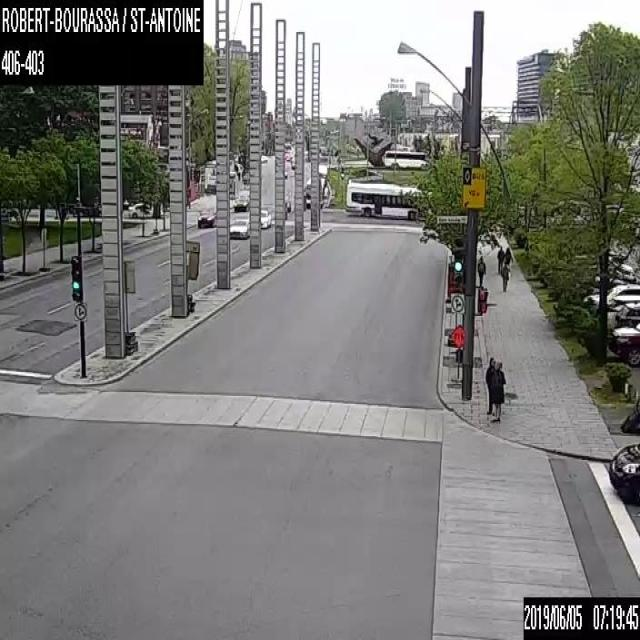bus: (344, 178, 431, 220), (381, 147, 426, 168), (304, 176, 326, 208), (317, 163, 327, 176)
construction: (121, 258, 138, 355), (184, 239, 200, 314), (449, 324, 462, 386)
pedestrian: (492, 361, 506, 421), (484, 355, 496, 413), (476, 252, 486, 283), (504, 244, 513, 274), (500, 262, 509, 292), (496, 244, 504, 273)
vehicle: (607, 440, 639, 503), (583, 283, 639, 308), (610, 321, 639, 365), (607, 294, 639, 323), (614, 302, 639, 328), (228, 216, 249, 240), (127, 199, 153, 217), (197, 208, 214, 228), (233, 191, 249, 212), (259, 209, 271, 228), (283, 192, 290, 211)
